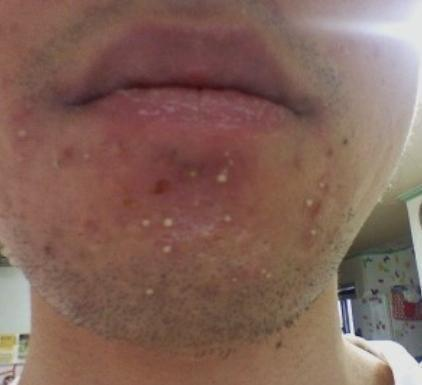folliculitis: (132, 204, 191, 267), (295, 177, 341, 245), (249, 258, 283, 290), (217, 208, 250, 236), (145, 283, 172, 311), (14, 124, 35, 157)
sebo-crystan-conglo: (207, 153, 249, 188)
